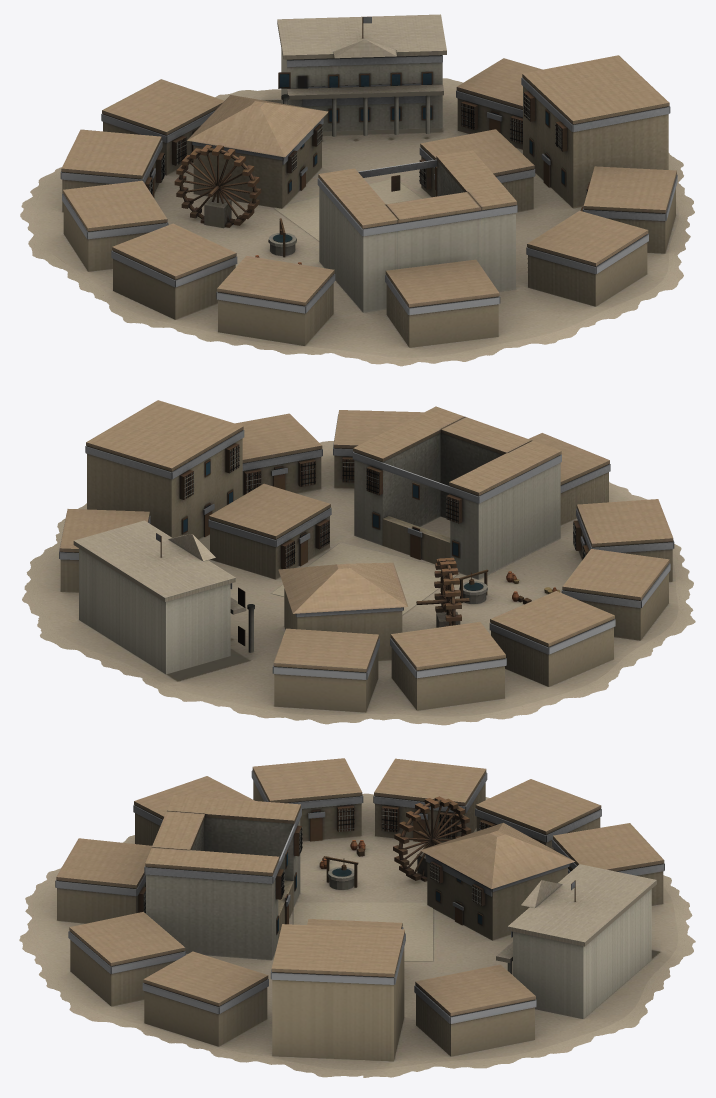
File: gunpowder-town-medium-b-nile.glb
3 views of the same model, one above another, from view 1: azimuth 30°, elevation 25°; view 2: azimuth 150°, elevation 25°; view 3: azimuth 270°, elevation 25° (orthographic).
Parts seen in each view (by area): view 1: LOD0; view 2: LOD0; view 3: LOD0.
Part boxes in pixels (x1,y1,x2,y2): LOD0: (20, 14, 694, 366); LOD0: (22, 400, 695, 725); LOD0: (19, 758, 695, 1077).
Size of what is drawn, in the model's own units: 5.95 by 0.9817 by 5.92.
3 materials, 3 textured.
